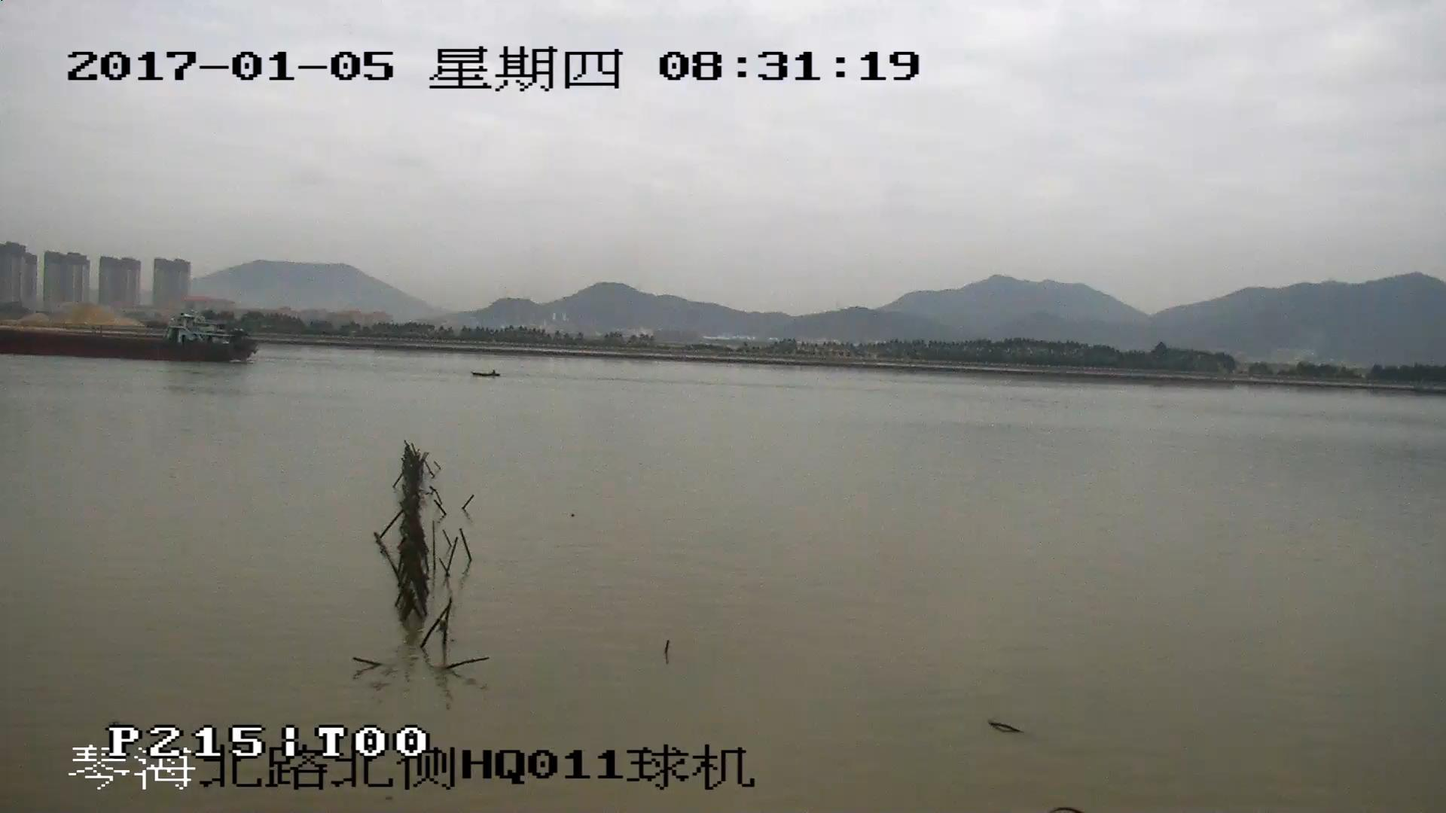bulk cargo carrier: (0, 315, 258, 361)
fishing boat: (470, 367, 500, 375)
